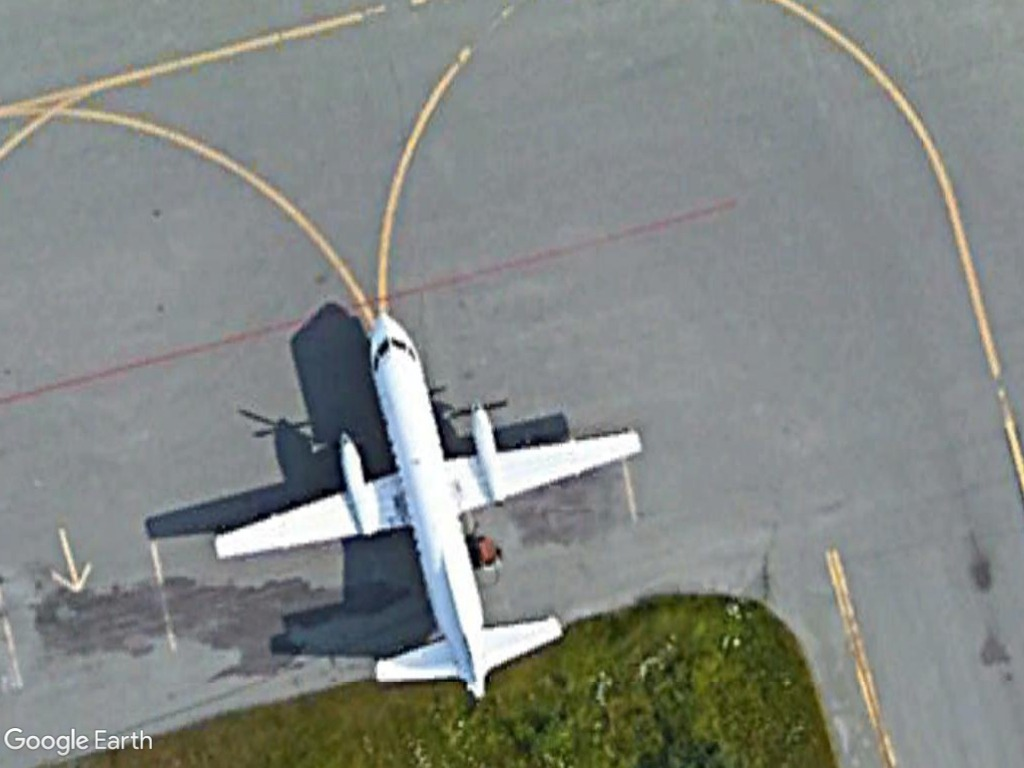propeller: (206, 306, 651, 708)
